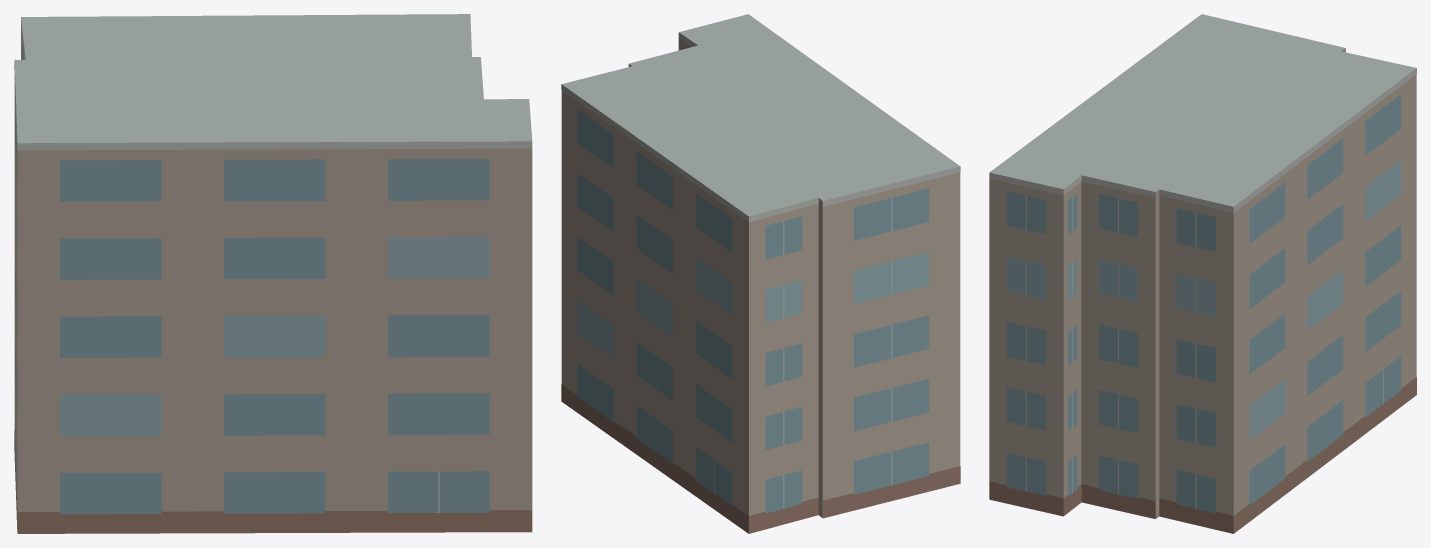
File: survey-upis-32517916.glb
The picture shows the model from 3 angles, left to right: view 1: azimuth 30°, elevation 25°; view 2: azimuth 150°, elevation 25°; view 3: azimuth 270°, elevation 25°; orthographic projection. The views are drawn at different scales.
Parts seen in each view (by area): view 1: survey-upis-32517916.tmp; view 2: survey-upis-32517916.tmp; view 3: survey-upis-32517916.tmp.
Part boxes in pixels (box(x1,y1,x2,y2)): survey-upis-32517916.tmp: box(14, 14, 532, 533); survey-upis-32517916.tmp: box(561, 14, 960, 533); survey-upis-32517916.tmp: box(989, 14, 1416, 533).
Size of the model in its own units: 16.7 by 13.2 by 15.64.
